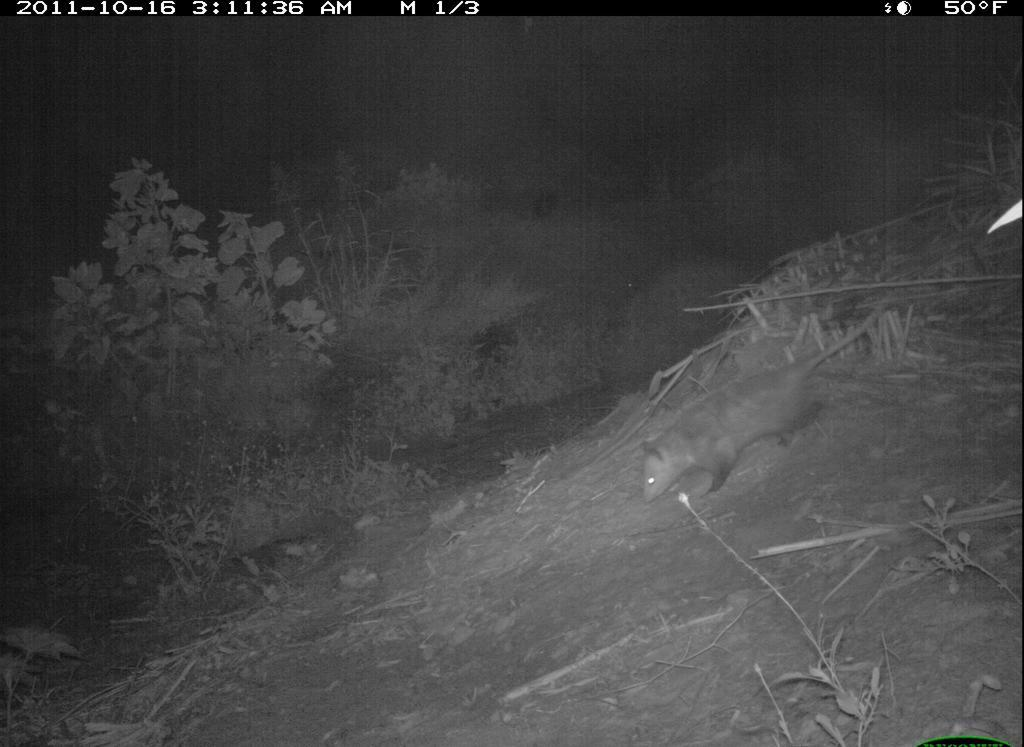opossum: (625, 285, 922, 533)
